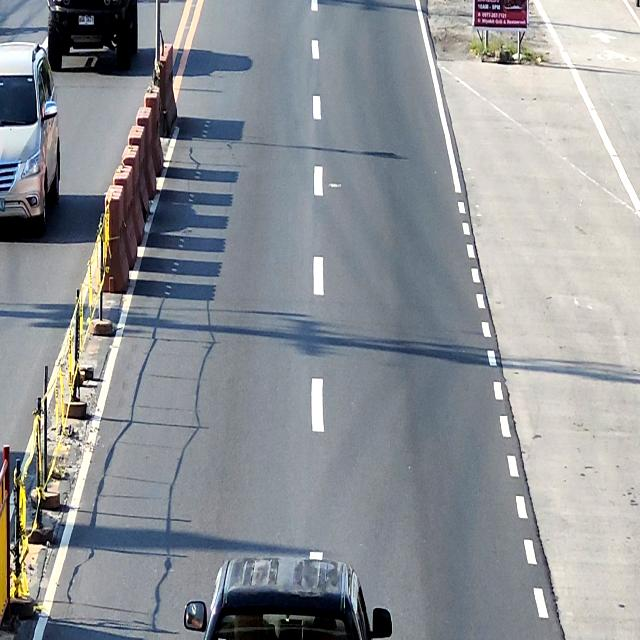Car: (181, 556, 393, 640), (0, 41, 61, 236), (48, 0, 138, 75)
License-Plate: (78, 16, 94, 24)
